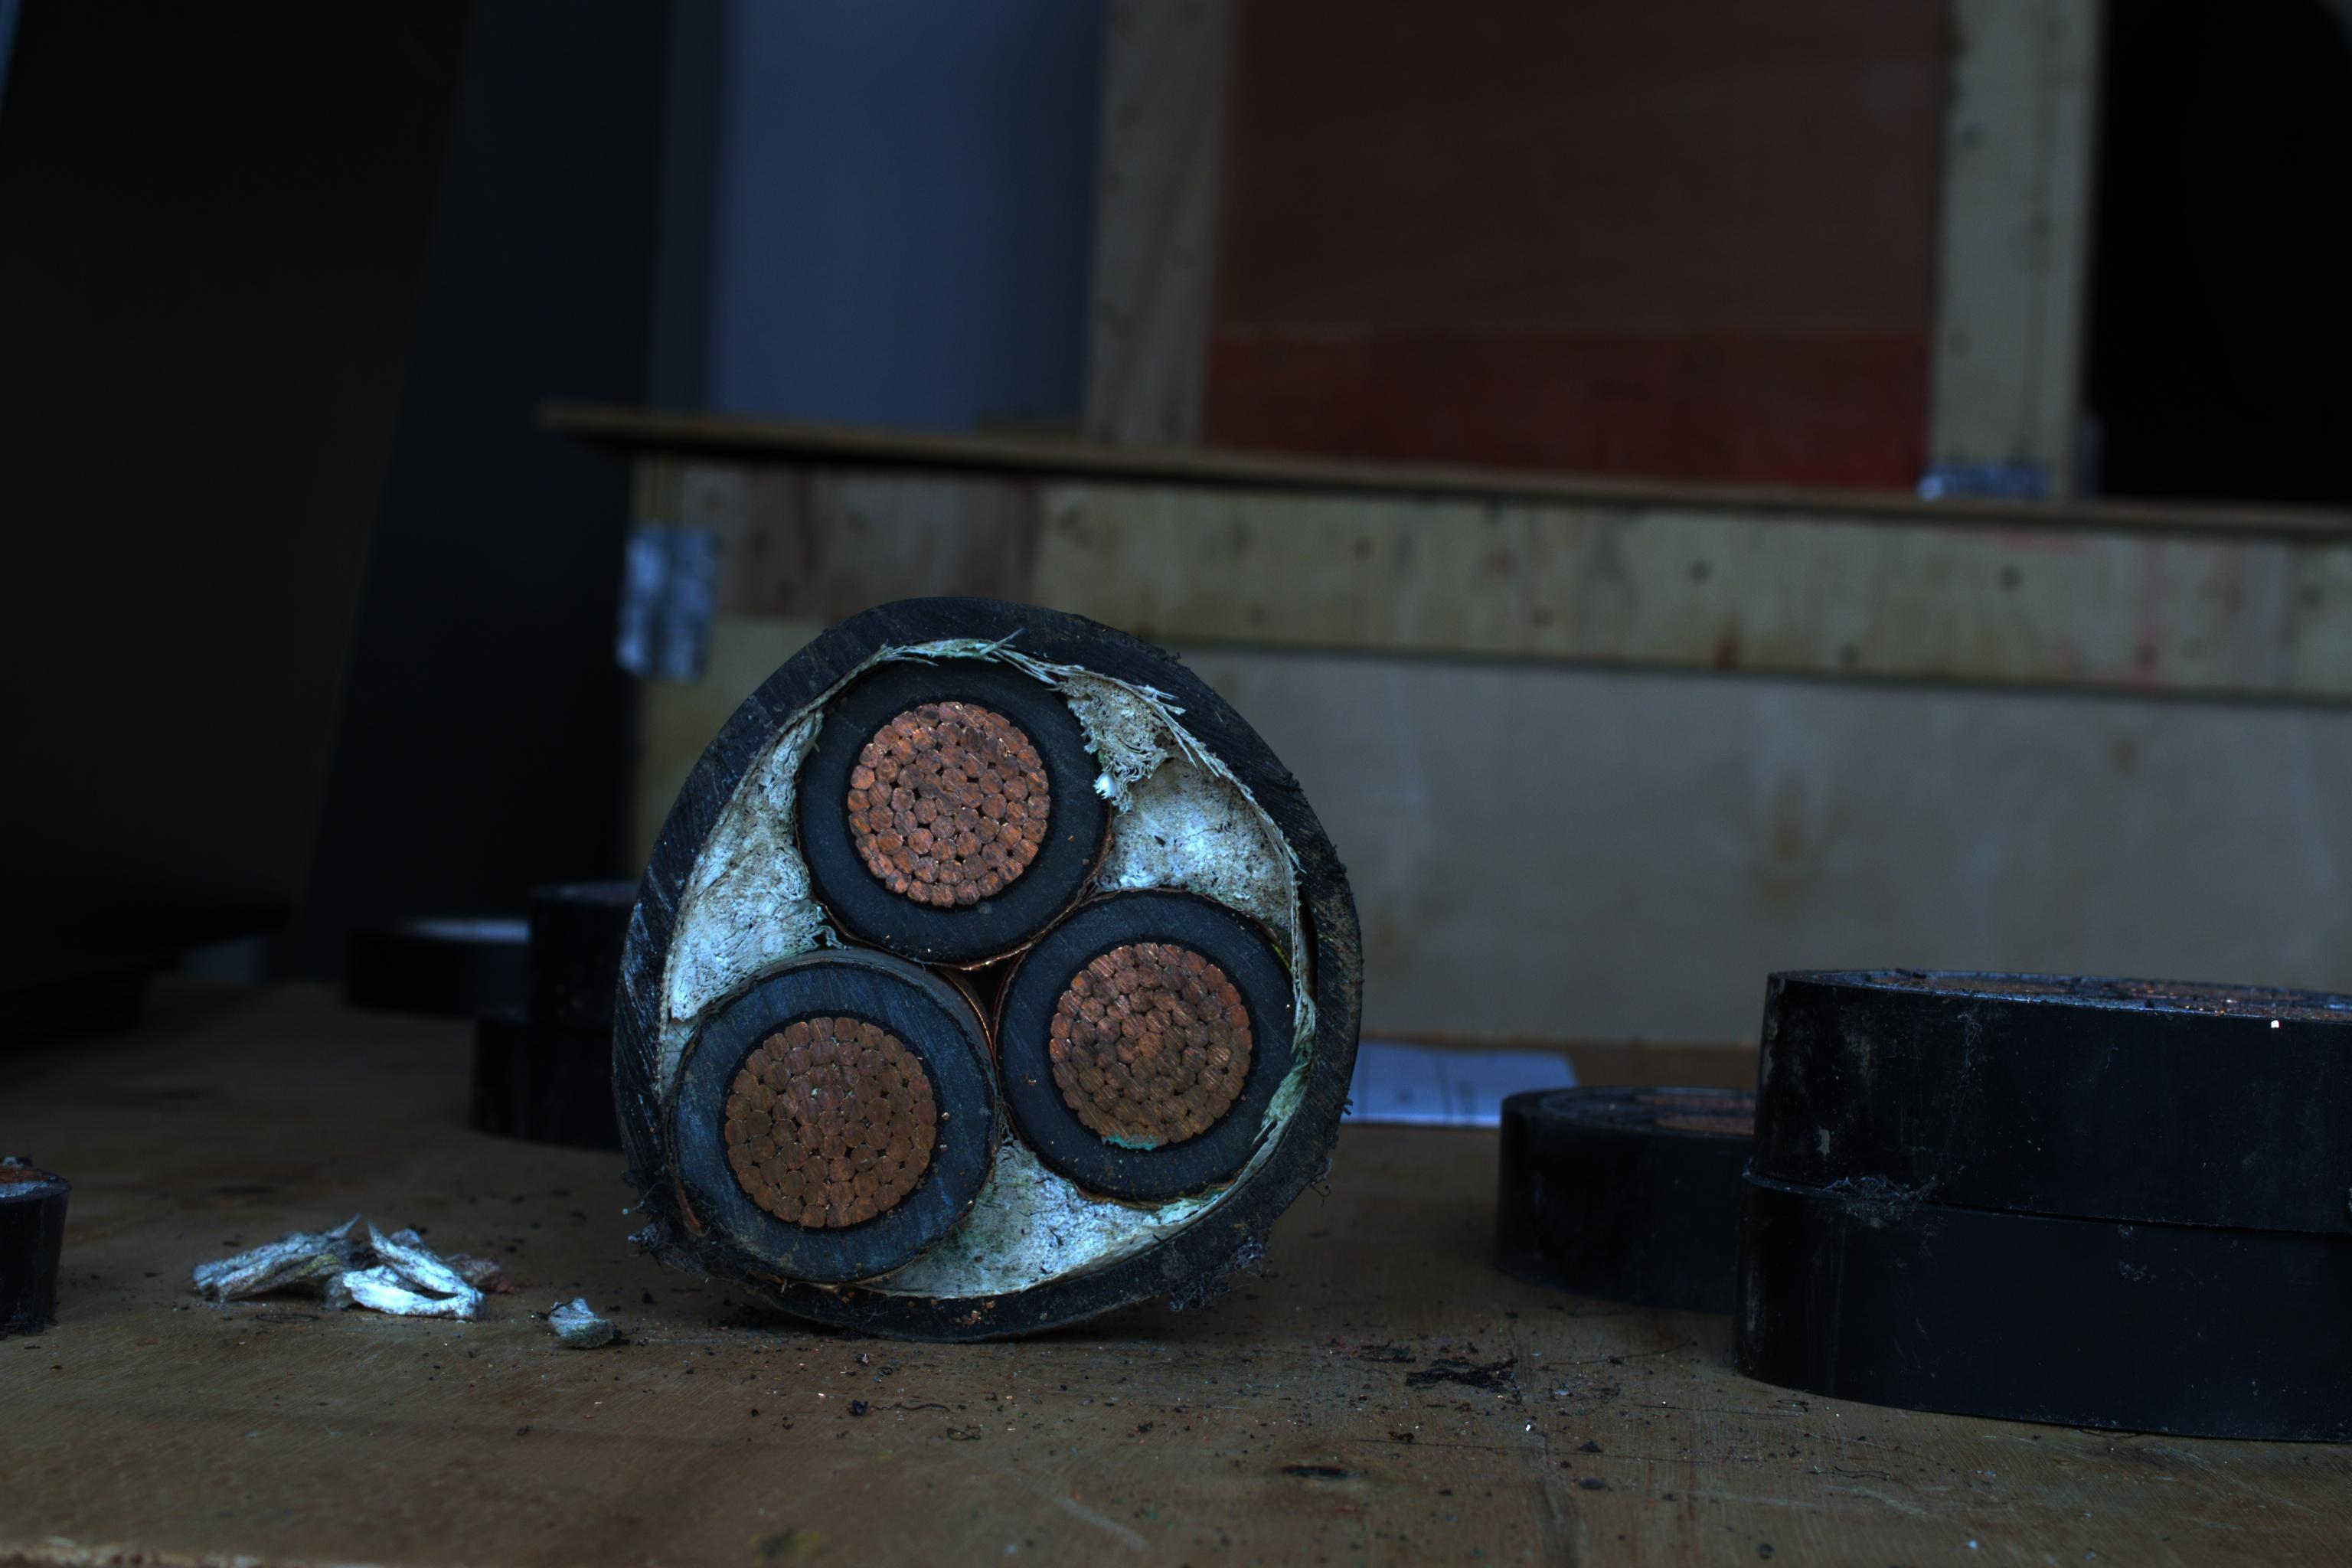ZA_YJV_8.7_10kV_3x400: (598, 612, 1395, 1330)
